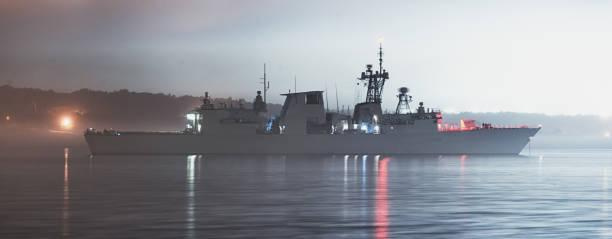MIL_Ship: (83, 51, 540, 157)
